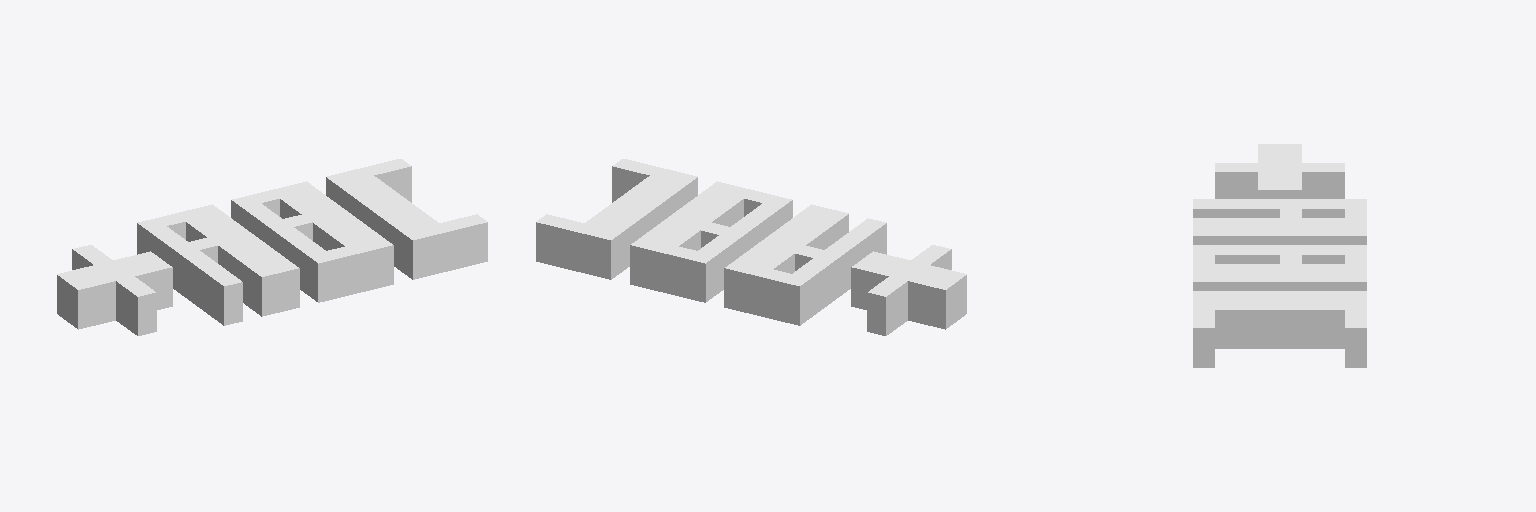
The model's file is buttonShape_abc.obj.
3 views of the same model, side by side, from view 1: azimuth 30°, elevation 25°; view 2: azimuth 150°, elevation 25°; view 3: azimuth 270°, elevation 25° (orthographic).
Size of the model in its own units: 20 by 2 by 8.